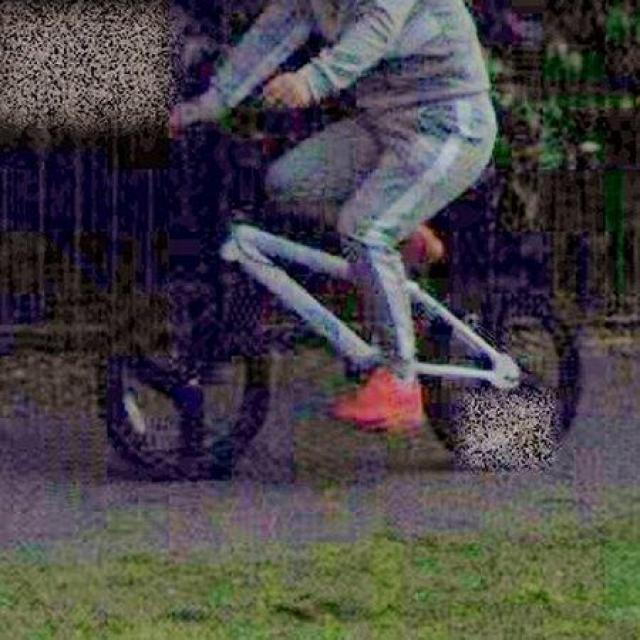bicycle: (95, 38, 606, 503)
